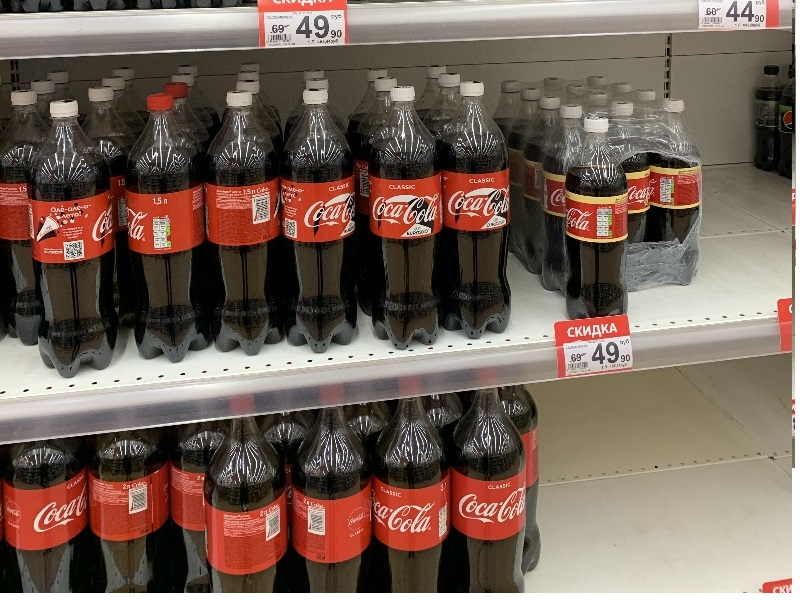lemonade: (25, 97, 127, 389), (110, 90, 217, 367), (188, 89, 292, 361), (269, 87, 366, 365), (423, 80, 521, 347), (353, 84, 446, 356), (558, 116, 638, 316)
